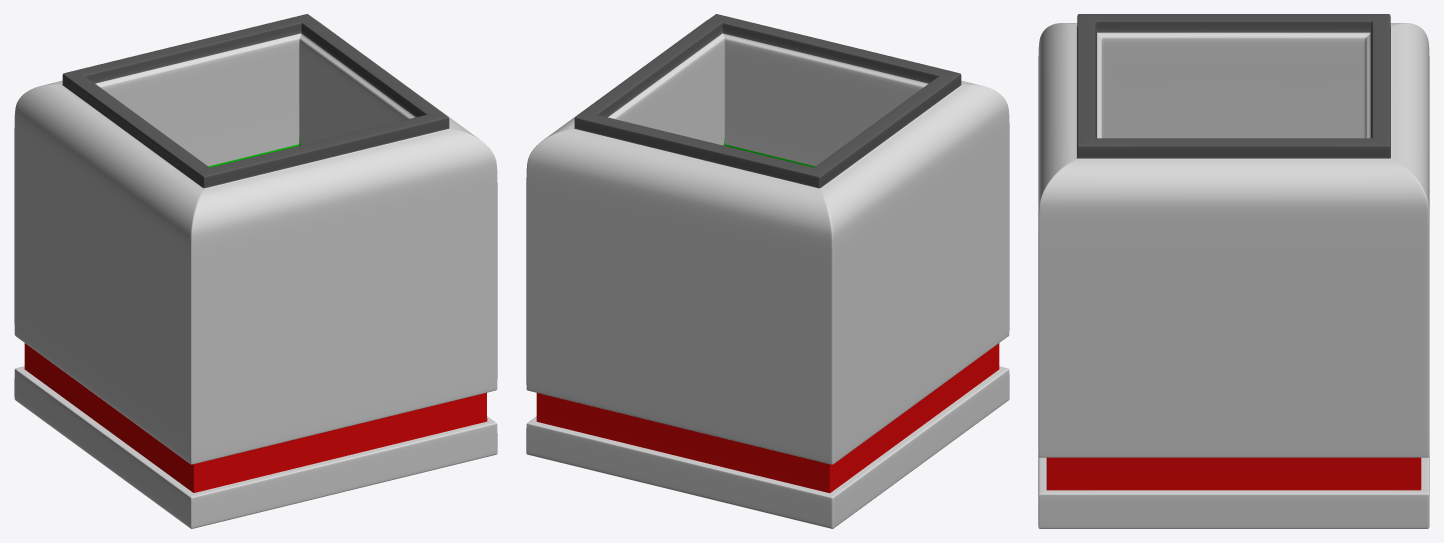
File: Jar_LP_FBX.fbx
3 views of the same model, side by side, from view 1: azimuth 30°, elevation 25°; view 2: azimuth 150°, elevation 25°; view 3: azimuth 270°, elevation 25° (orthographic). The views are drawn at different scales.
Visible parts, largest first — view 1: pCube17; view 2: pCube17; view 3: pCube17.
Part boxes in pixels (x1=…): pCube17: x1=14, y1=14, x2=497, y2=528; pCube17: x1=526, y1=14, x2=1009, y2=528; pCube17: x1=1038, y1=14, x2=1429, y2=528.
Size of the model in its own units: 100 by 104 by 100.
